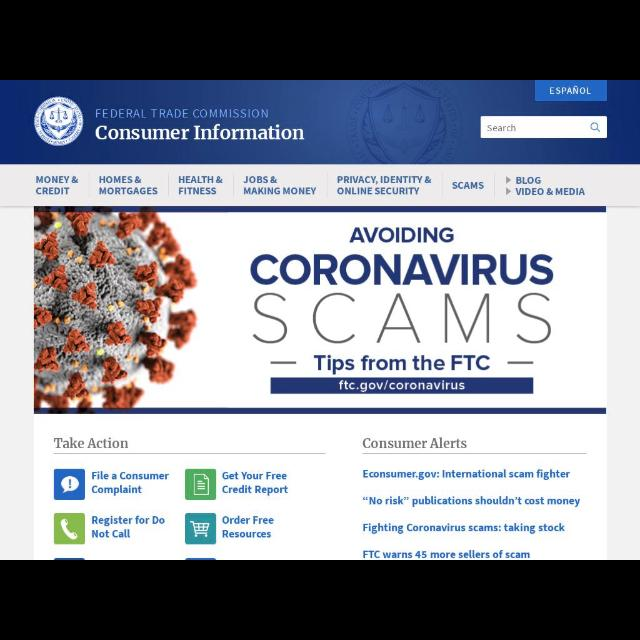backgroundimage: (314, 80, 480, 164)
icon: (53, 469, 83, 498), (186, 470, 214, 500), (186, 514, 214, 542), (55, 516, 85, 542), (588, 123, 602, 133), (504, 188, 512, 194), (506, 178, 512, 184)
image: (34, 207, 606, 411), (31, 94, 84, 146)
input: (481, 117, 607, 137)
multitab: (1, 166, 636, 206)
text: (249, 290, 547, 346), (250, 252, 556, 290), (317, 352, 488, 370), (364, 494, 580, 508), (94, 126, 306, 140), (92, 105, 272, 121), (90, 468, 170, 498), (363, 470, 573, 480), (362, 522, 568, 532), (345, 226, 457, 244), (335, 175, 433, 195), (222, 470, 290, 496), (338, 378, 464, 392), (360, 549, 534, 559), (90, 515, 166, 537), (245, 176, 318, 198), (98, 174, 158, 196), (362, 437, 471, 449), (224, 516, 276, 540), (26, 175, 84, 195), (540, 84, 602, 100), (51, 438, 128, 450), (178, 176, 222, 196), (515, 187, 587, 193), (456, 181, 482, 191), (487, 123, 515, 131), (516, 176, 544, 184)
toolbar: (2, 83, 636, 159)
